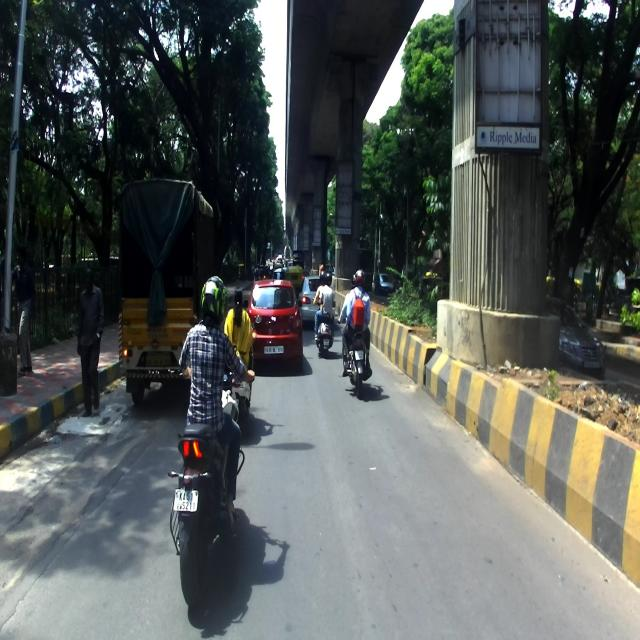Car_Hyundai: (242, 276, 304, 371)
motorcycle: (167, 361, 254, 607)
motorcycle_Honda: (337, 316, 373, 398)
scooter: (312, 295, 338, 357)
